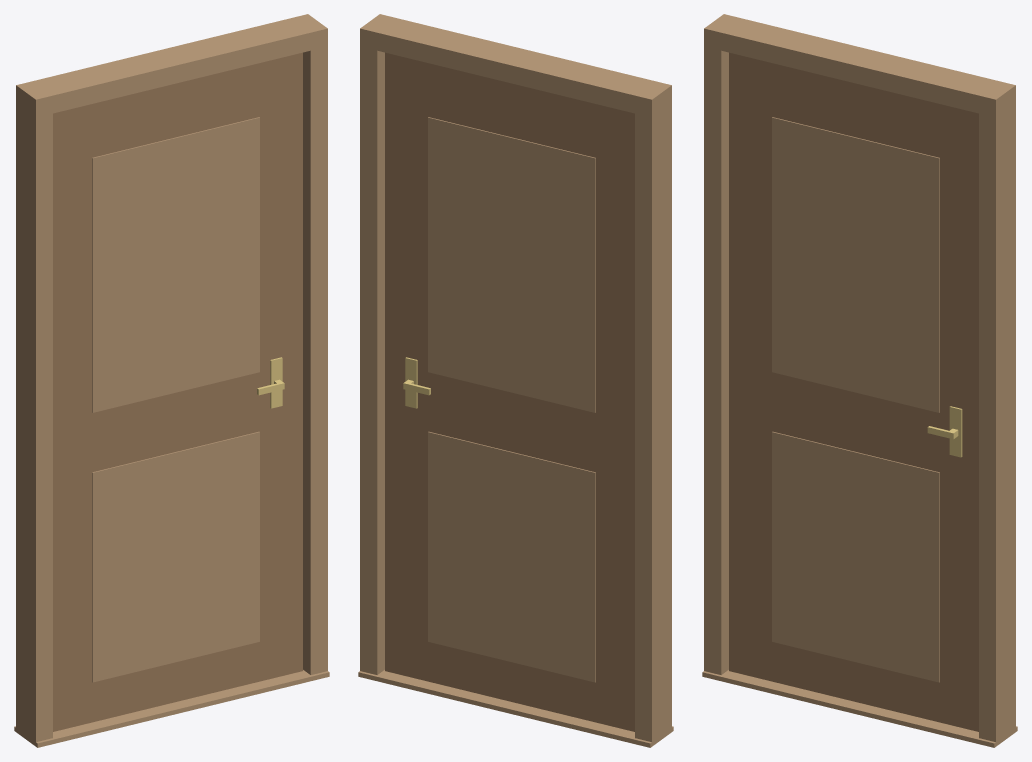
The model's file is Door.glb.
3 renders of one model, left to right at view 1: azimuth 30°, elevation 25°; view 2: azimuth 150°, elevation 25°; view 3: azimuth 330°, elevation 25°, orthographic.
Visible parts, largest first — view 1: Door; view 2: Door; view 3: Door.
Part boxes in pixels (left/top/right/bottom): Door: left=14, top=14, right=329, bottom=747; Door: left=358, top=14, right=673, bottom=747; Door: left=702, top=14, right=1017, bottom=747.
Bounding box in the file's own units: 1.02 × 2.16 × 0.14.
